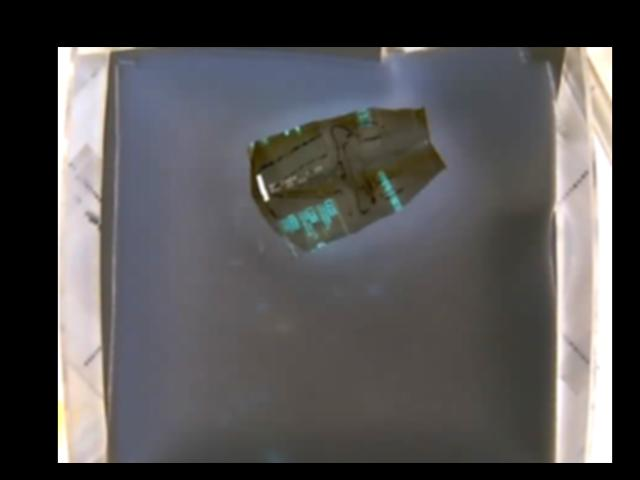Bottle: (246, 105, 445, 260)
